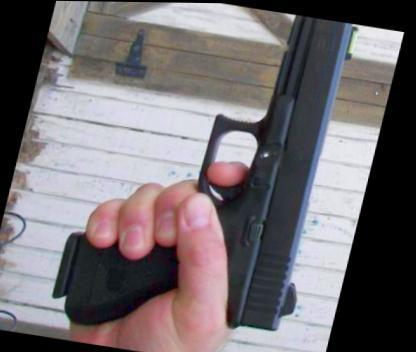pistol: (50, 0, 368, 349)
